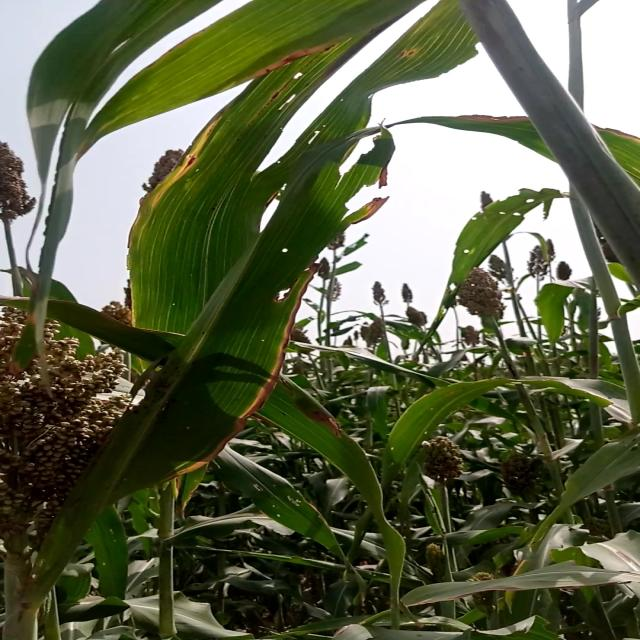UnripeSorghum: (0, 301, 124, 556)
